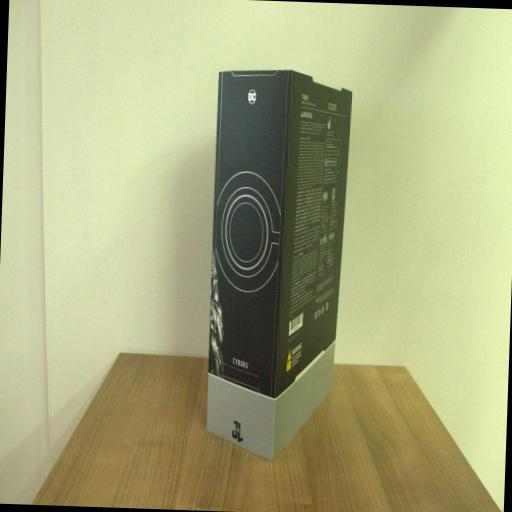Cyborg: (204, 70, 352, 462)
